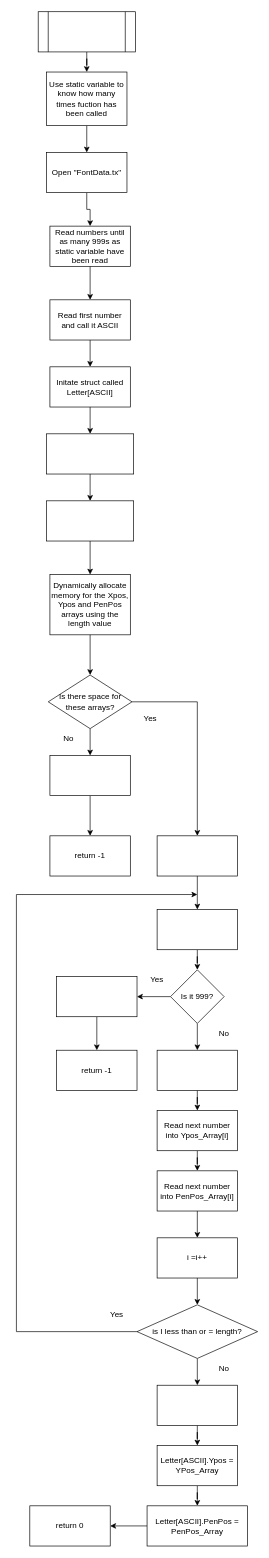
This 269x1558 diagram has some shape labels left out. The centre of each missing label's shape, as x and y in pixels:
Fill the ASCII char in the struct with the letter: (x=90, y=453)
FontDataToStruct: (x=86, y=31)
i =1: (x=197, y=855)
Letter[ASCII].Xpos = XPos_Array: (x=197, y=1405)
printf "FontData.txt formatting error": (x=96, y=996)
printf "memory could not be allocated - terminating": (x=89, y=775)
put it in Xpos_Array[i]: (x=197, y=1070)
Read next number: (x=197, y=929)
Read the second number and make it the Letter[ASCII].length: (x=90, y=520)
